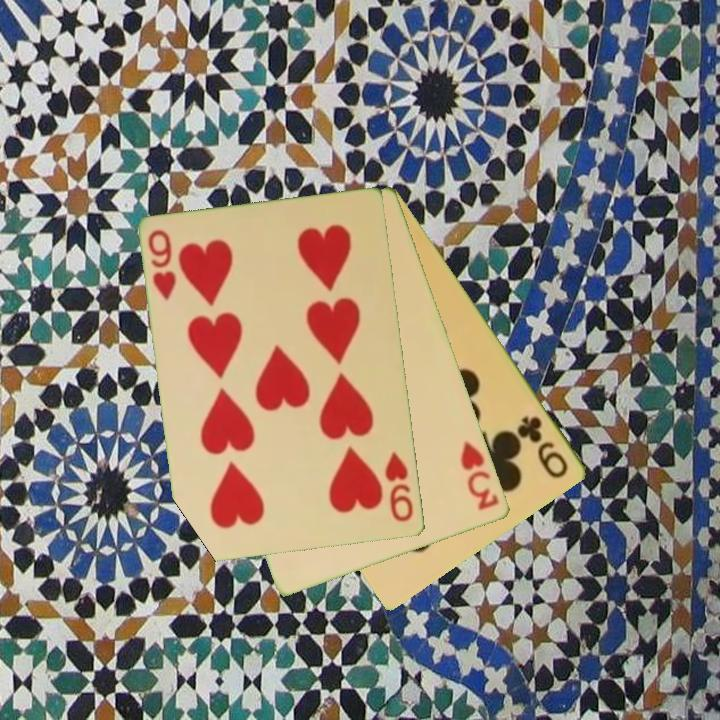3h: (457, 437, 502, 514)
9c: (515, 412, 572, 482)
9h: (145, 226, 180, 304), (382, 449, 417, 525)
